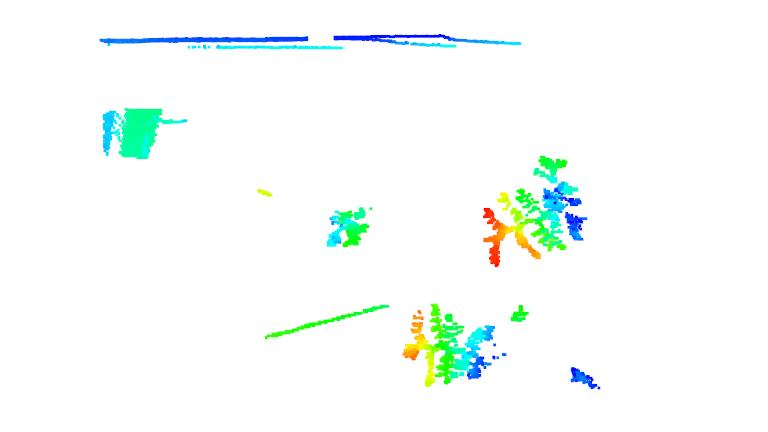chickpea: (480, 154, 587, 266), (400, 304, 508, 385), (323, 202, 371, 249)
